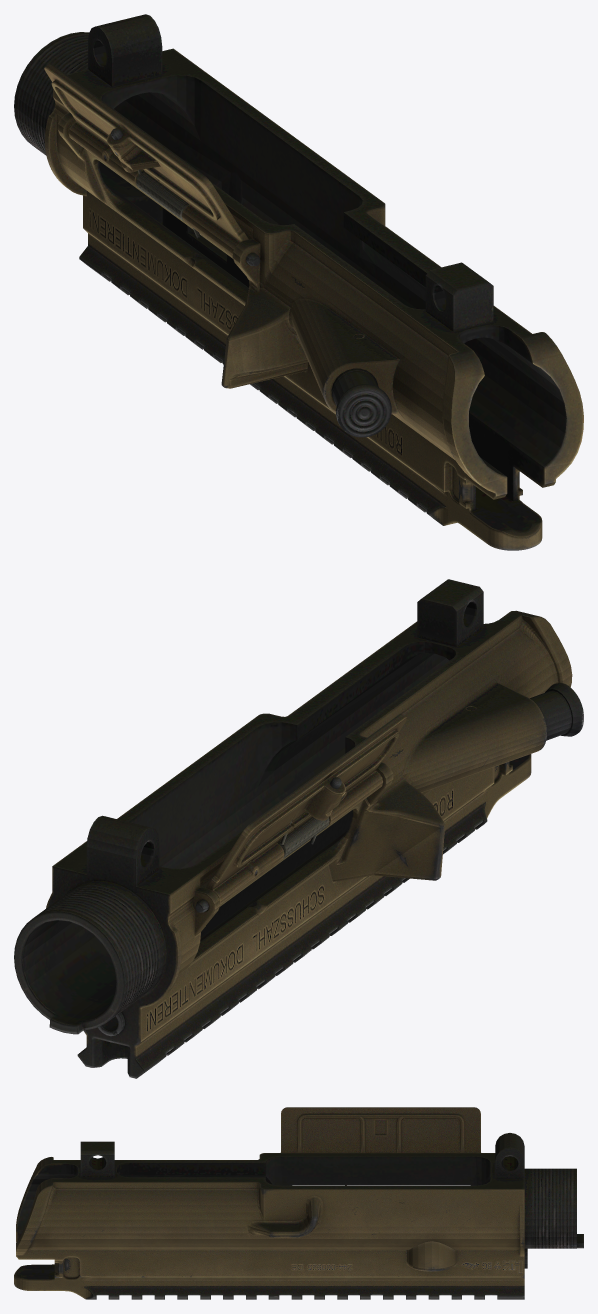
3 renders of one model, top to bottom at view 1: azimuth 30°, elevation 25°; view 2: azimuth 150°, elevation 25°; view 3: azimuth 270°, elevation 25°, orthographic. The views are drawn at different scales.
Visible parts, largest first — view 1: TW_61713a8fd92c473c770214a4_PZ_Import; view 2: TW_61713a8fd92c473c770214a4_PZ_Import; view 3: TW_61713a8fd92c473c770214a4_PZ_Import.
Part boxes in pixels (bbox=[...]): TW_61713a8fd92c473c770214a4_PZ_Import: bbox=[14, 14, 583, 550]; TW_61713a8fd92c473c770214a4_PZ_Import: bbox=[14, 579, 583, 1078]; TW_61713a8fd92c473c770214a4_PZ_Import: bbox=[14, 1107, 583, 1299].
Bounding box in the file's own units: 0.0384 × 0.1442 × 0.043.
Materials: 1 (1 with a texture image).
